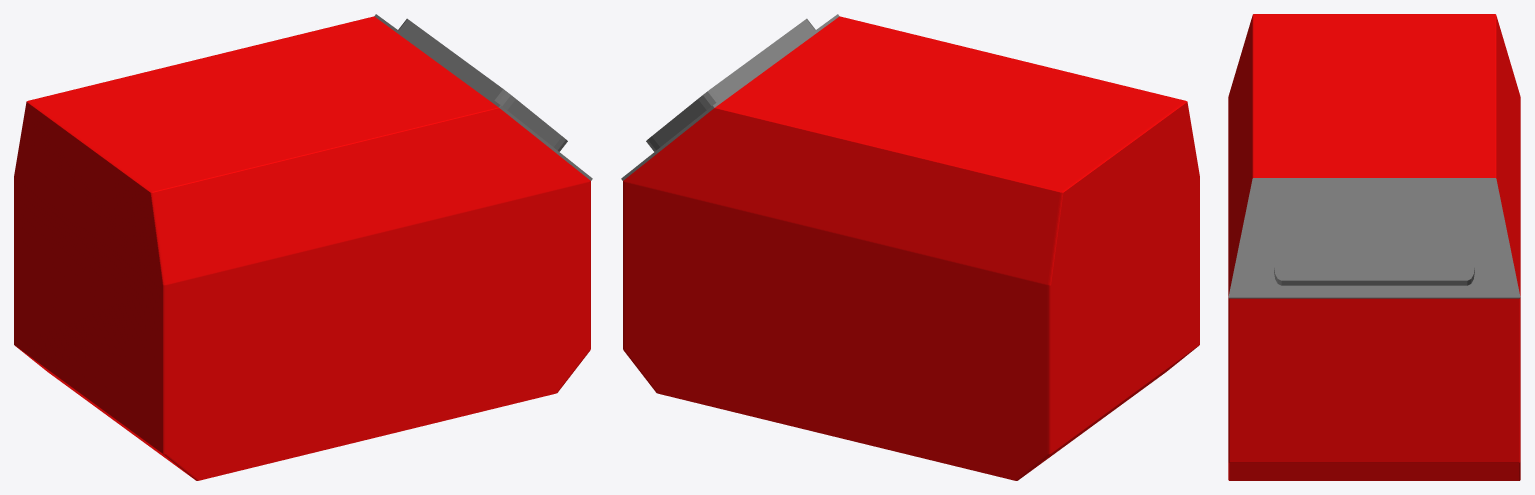
File: robitChassisVisual.dae
3 views of the same model, side by side, from view 1: azimuth 30°, elevation 25°; view 2: azimuth 150°, elevation 25°; view 3: azimuth 270°, elevation 25° (orthographic). The views are drawn at different scales.
Visible parts, largest first — view 1: Chassis; view 2: Chassis; view 3: Chassis.
Part boxes in pixels (x1,y1,x2,y2): Chassis: (14, 14, 592, 480); Chassis: (621, 14, 1199, 480); Chassis: (1228, 14, 1520, 480).
Bounding box in the file's own units: 0.6469 × 0.39 × 0.4172.
